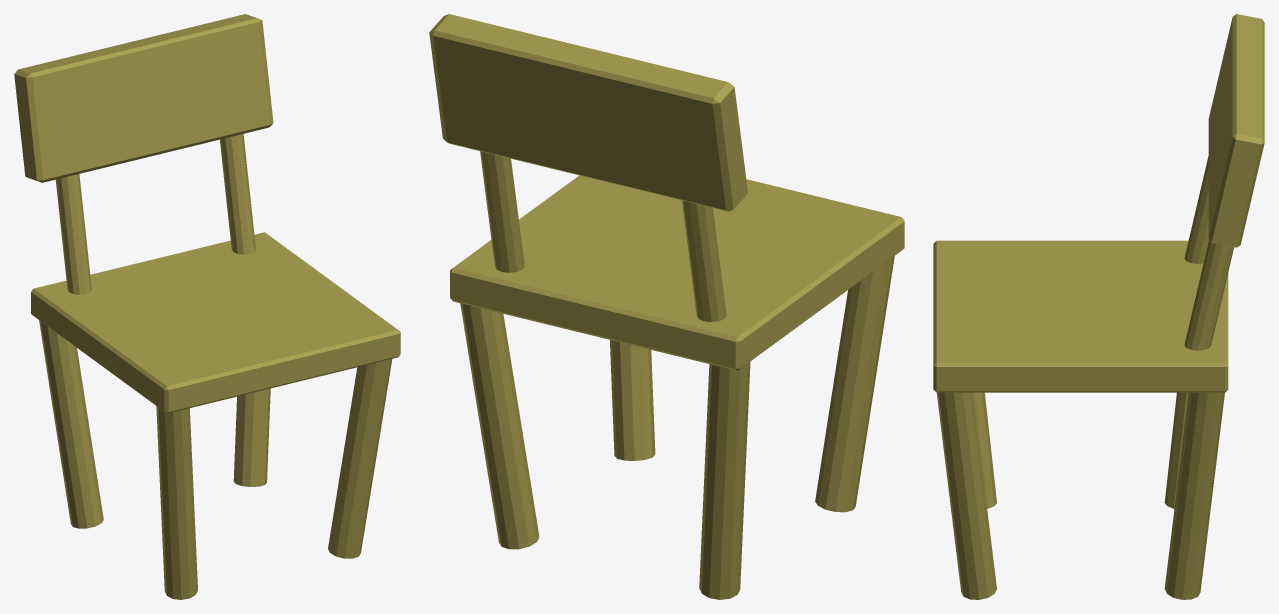
Rendered from silla.fbx.
3 views of the same model, side by side, from view 1: azimuth 30°, elevation 25°; view 2: azimuth 150°, elevation 25°; view 3: azimuth 270°, elevation 25° (orthographic). The views are drawn at different scales.
Visible parts, largest first — view 1: pCube10; view 2: pCube10; view 3: pCube10.
Part boxes in pixels (box(x1,y1,x2,y2)): pCube10: box(14, 14, 400, 599); pCube10: box(429, 14, 904, 599); pCube10: box(933, 14, 1264, 599).
Bounding box in the file's own units: 36 × 64.07 × 40.42.
